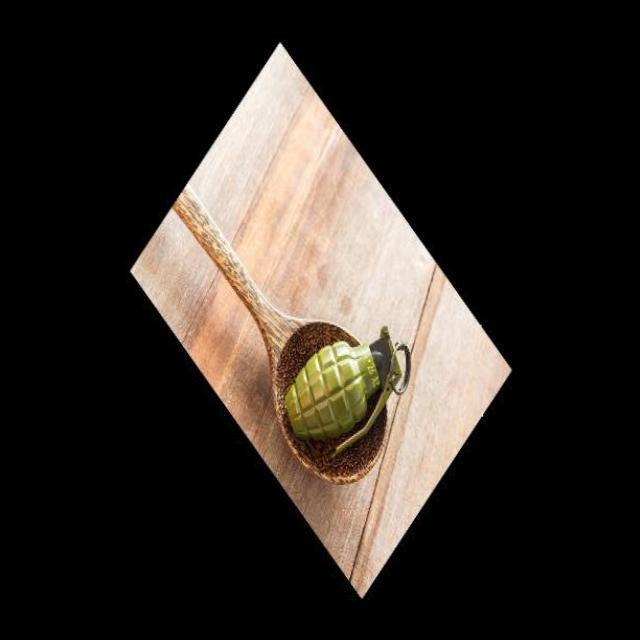grenade: (281, 312, 420, 454)
